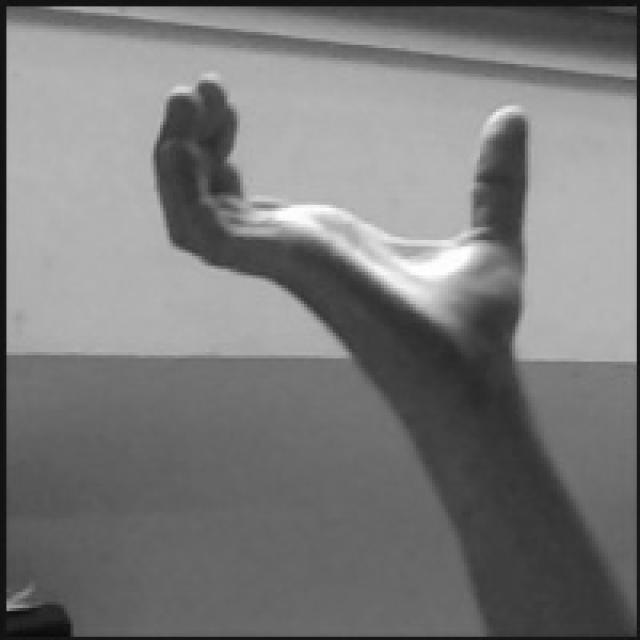space: (155, 74, 531, 317)
